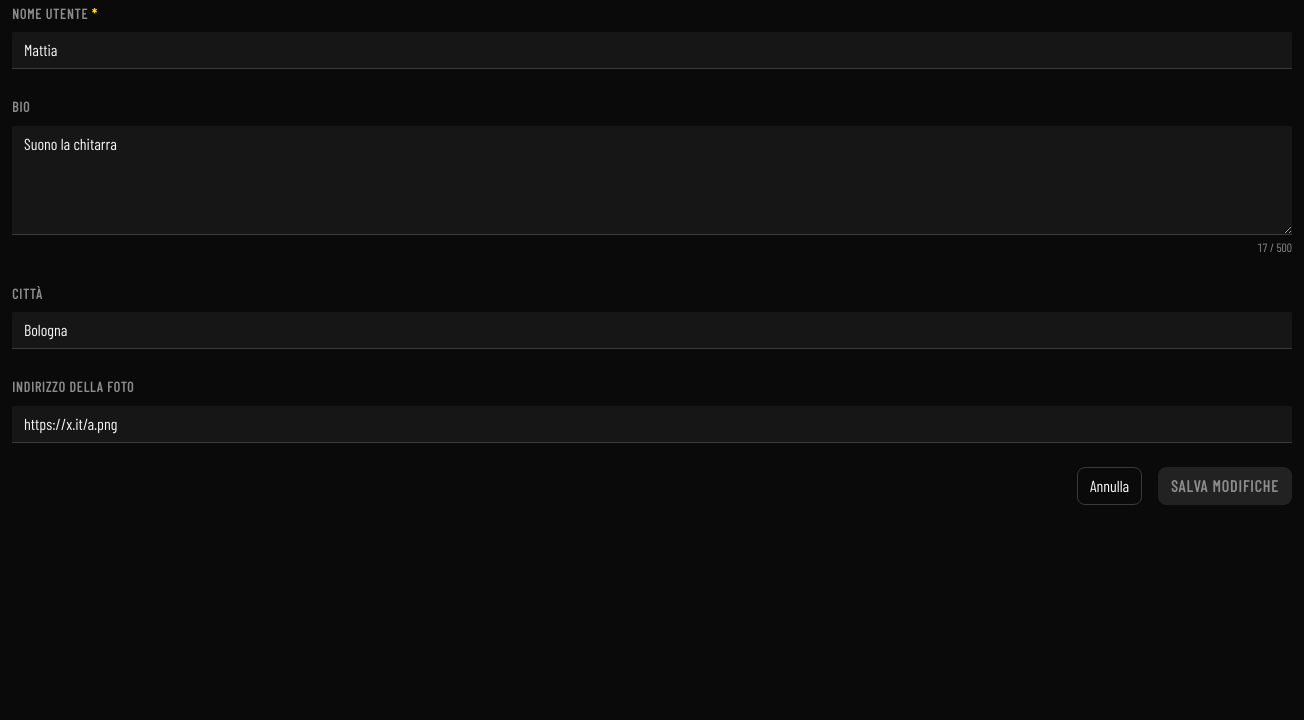
Test: ProfileForm › il messaggio di un campo sparisce appena si corregge il valore
Clear the field labelled "Nome utente" at (652,51), box top-left (12, 32), bottom-right (1292, 69)
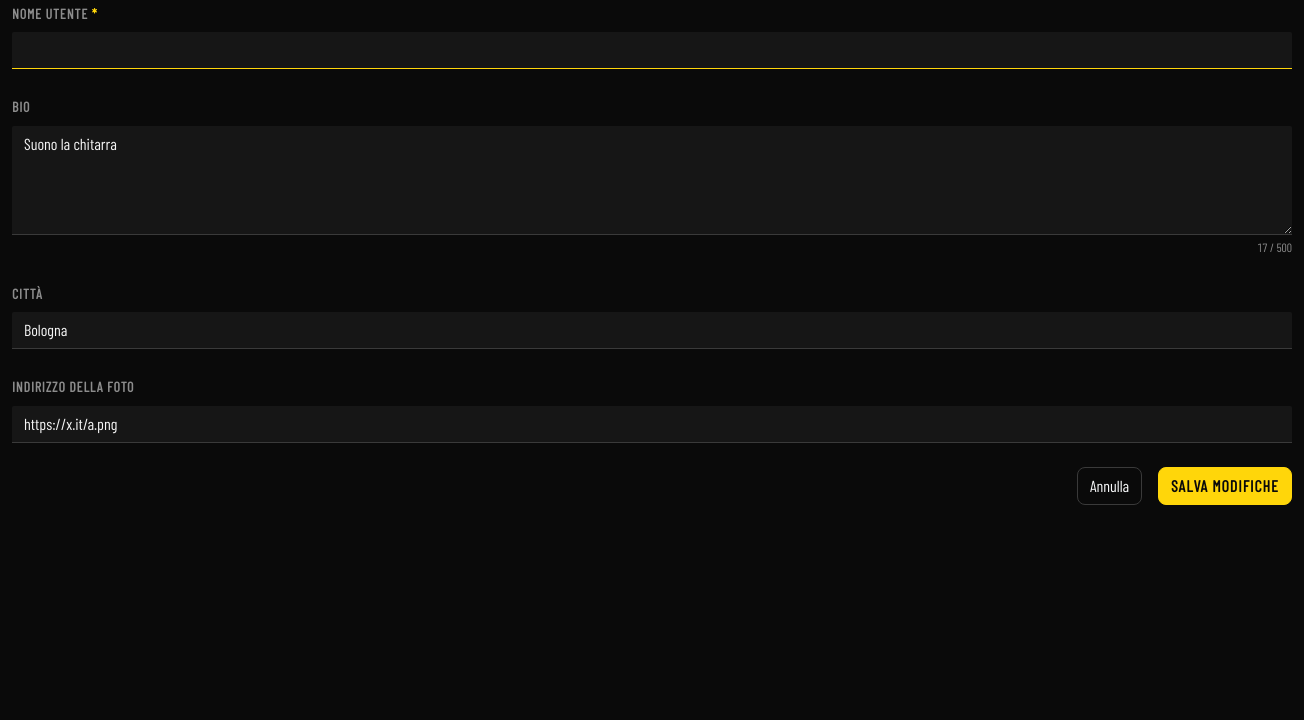
Click the button "Salva modifiche".
click(1225, 486)  # box top-left (1158, 467), bottom-right (1292, 505)
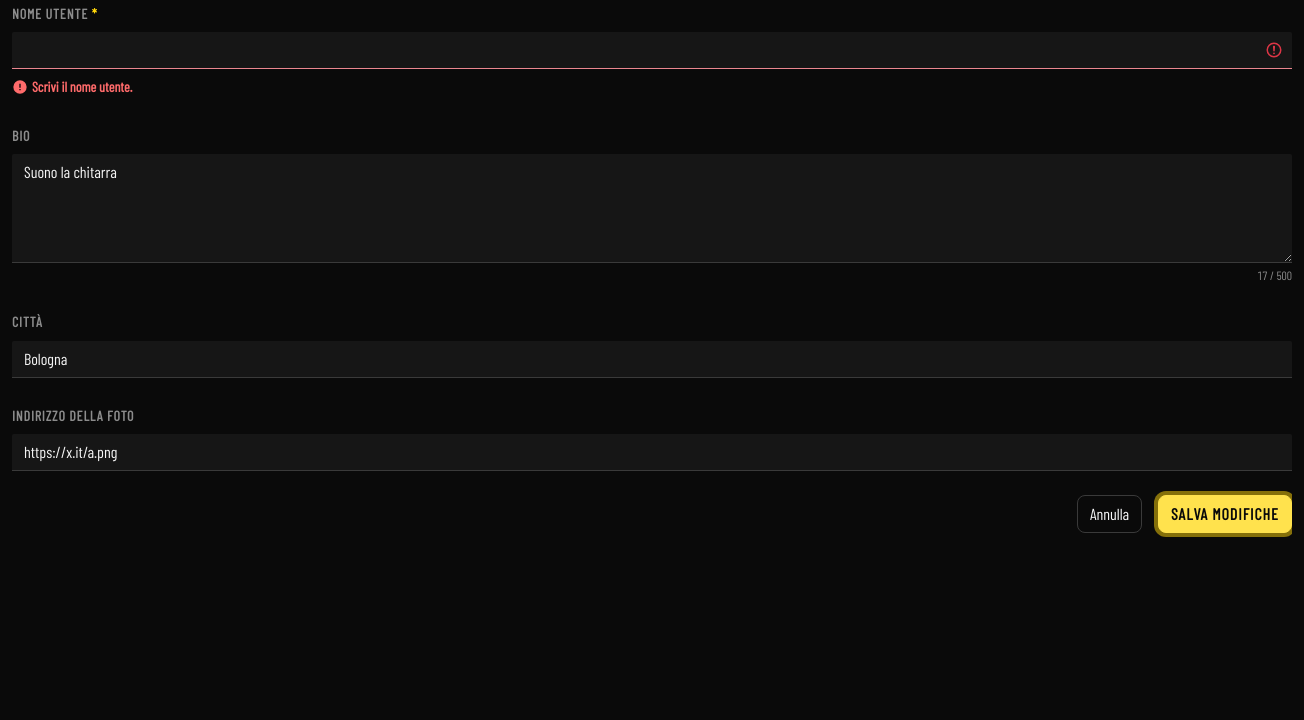
Expected: the text "Scrivi il nome utente." is shown, top-left (32, 77), bottom-right (132, 98)
Type "Mattia R" into the field labelled "Nome utente".
click(652, 51); type("Mattia R")  # box top-left (12, 32), bottom-right (1292, 69)
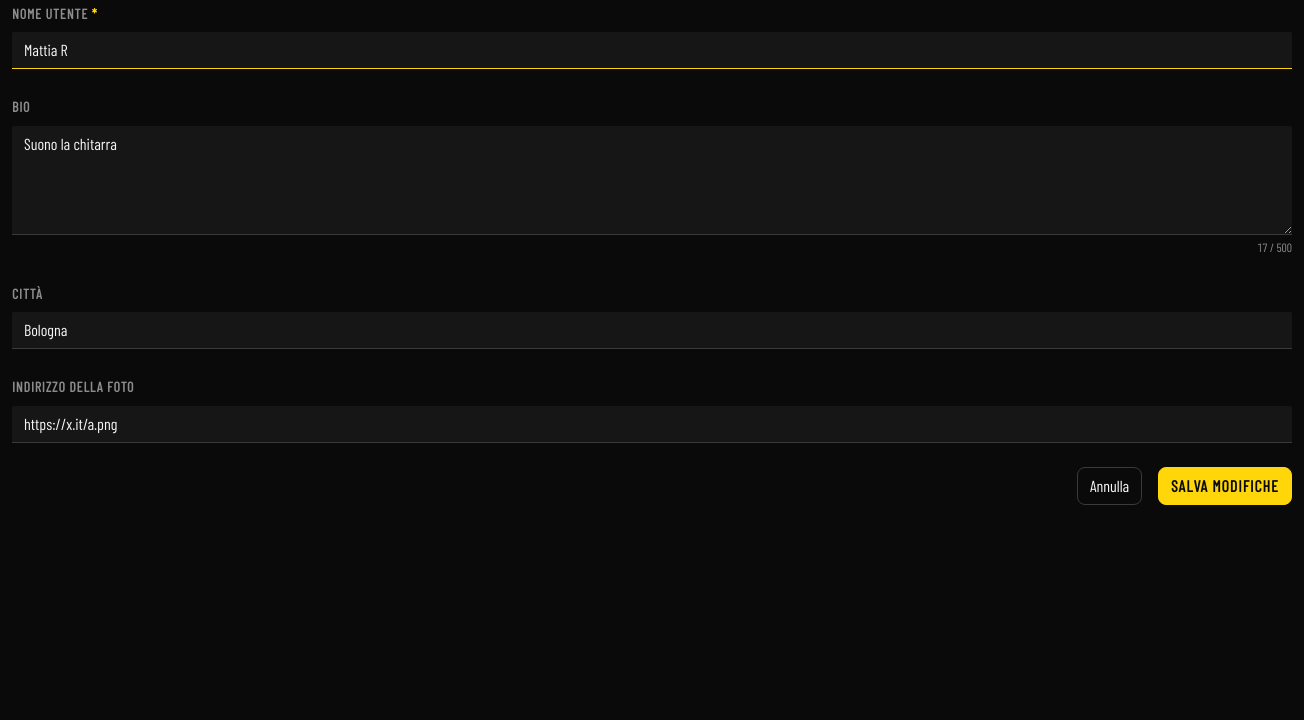
Expected: the text "Scrivi il nome utente." is gone
